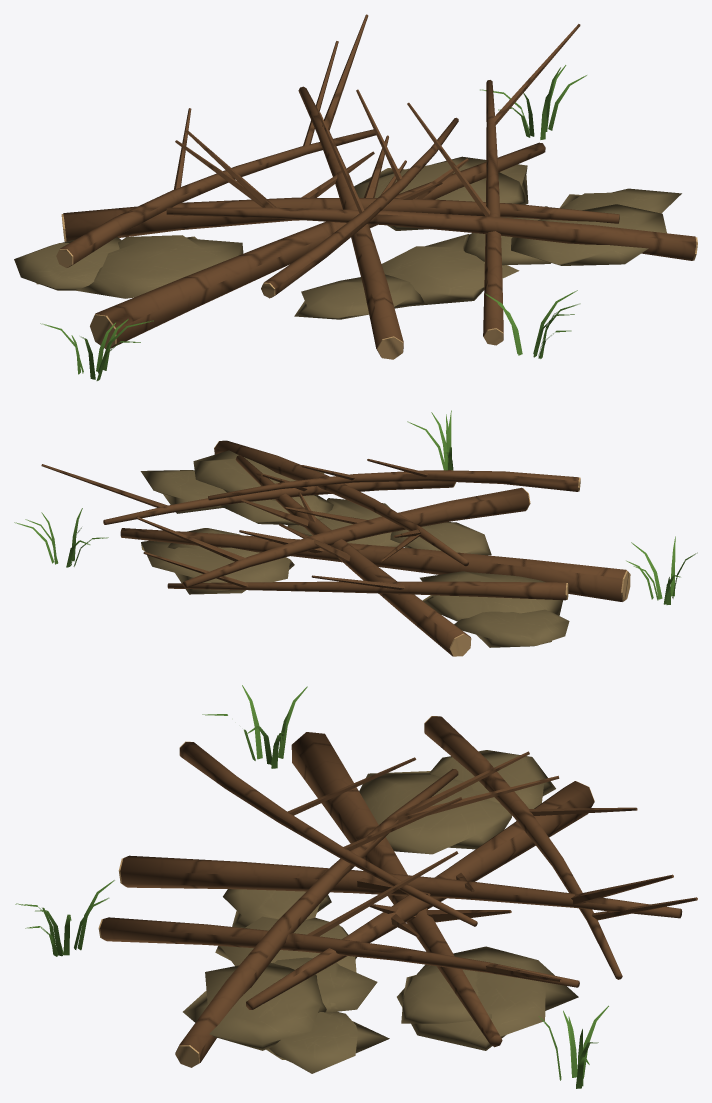
File: tree_fallen_branches.glb
3 views of the same model, one above another, from view 1: azimuth 30°, elevation 25°; view 2: azimuth 150°, elevation 25°; view 3: azimuth 270°, elevation 25° (orthographic). The views are drawn at different scales.
Visible parts, largest first — view 1: tree_fallen_branches; view 2: tree_fallen_branches; view 3: tree_fallen_branches.
Part boxes in pixels (left/top/right/bottom): tree_fallen_branches: left=14, top=14, right=697, bottom=380; tree_fallen_branches: left=14, top=410, right=697, bottom=656; tree_fallen_branches: left=15, top=685, right=697, bottom=1088.
Bounding box in the file's own units: 4.27 × 0.9293 × 3.33.
4 materials, 4 textured.
